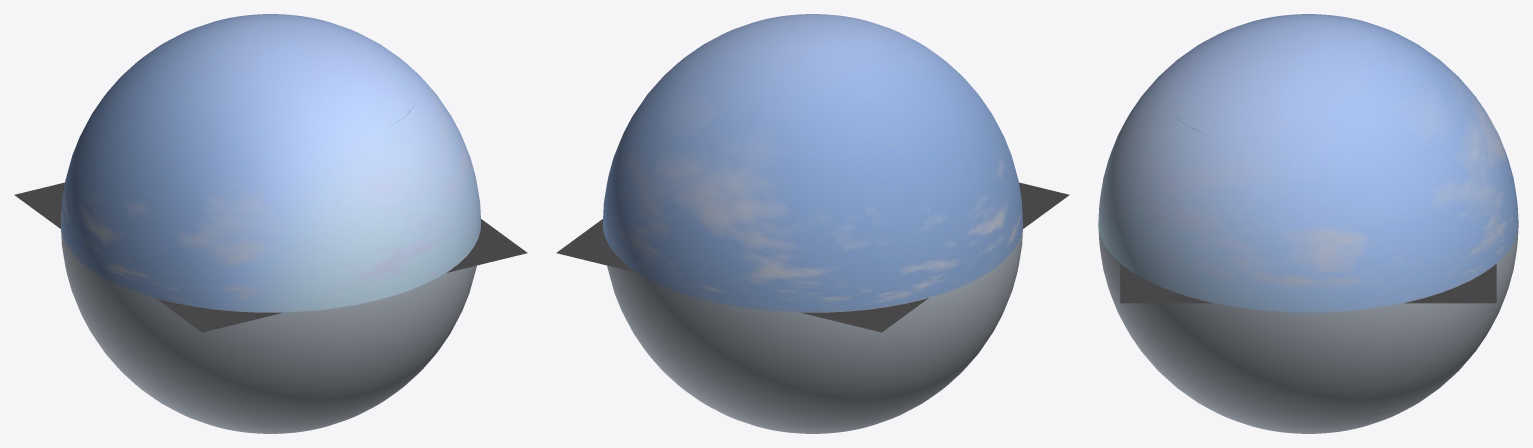
Rendered from city.glb.
3 renders of one model, left to right at view 1: azimuth 30°, elevation 25°; view 2: azimuth 150°, elevation 25°; view 3: azimuth 270°, elevation 25°, orthographic.
Parts seen in each view (by area): view 1: sky, ground; view 2: sky, ground; view 3: sky, ground.
Part boxes in pixels (left/top/right/bottom): sky: left=61, top=14, right=480, bottom=433; ground: left=14, top=182, right=527, bottom=332; sky: left=603, top=14, right=1022, bottom=433; ground: left=556, top=182, right=1069, bottom=332; sky: left=1098, top=14, right=1518, bottom=433; ground: left=1120, top=264, right=1496, bottom=303.
Size of the model in its own units: 1900 by 1900 by 1900.
Materials: 8 (7 with a texture image).
